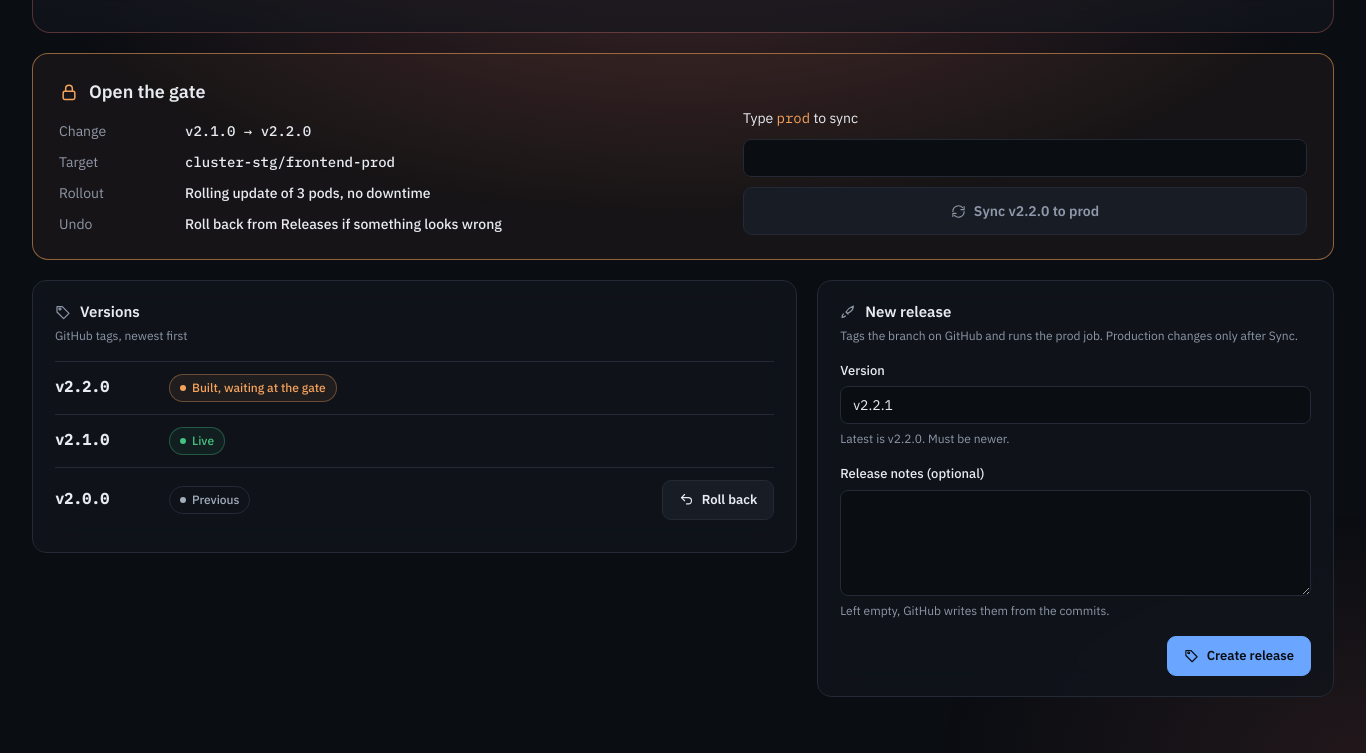
Test: Releases › rollback on prod needs the env name typed, then sends confirm
Later steps or results of the test are not shown.
(page scrolled)
Click the button "Roll back" at (718, 500), box [662, 480, 774, 520]
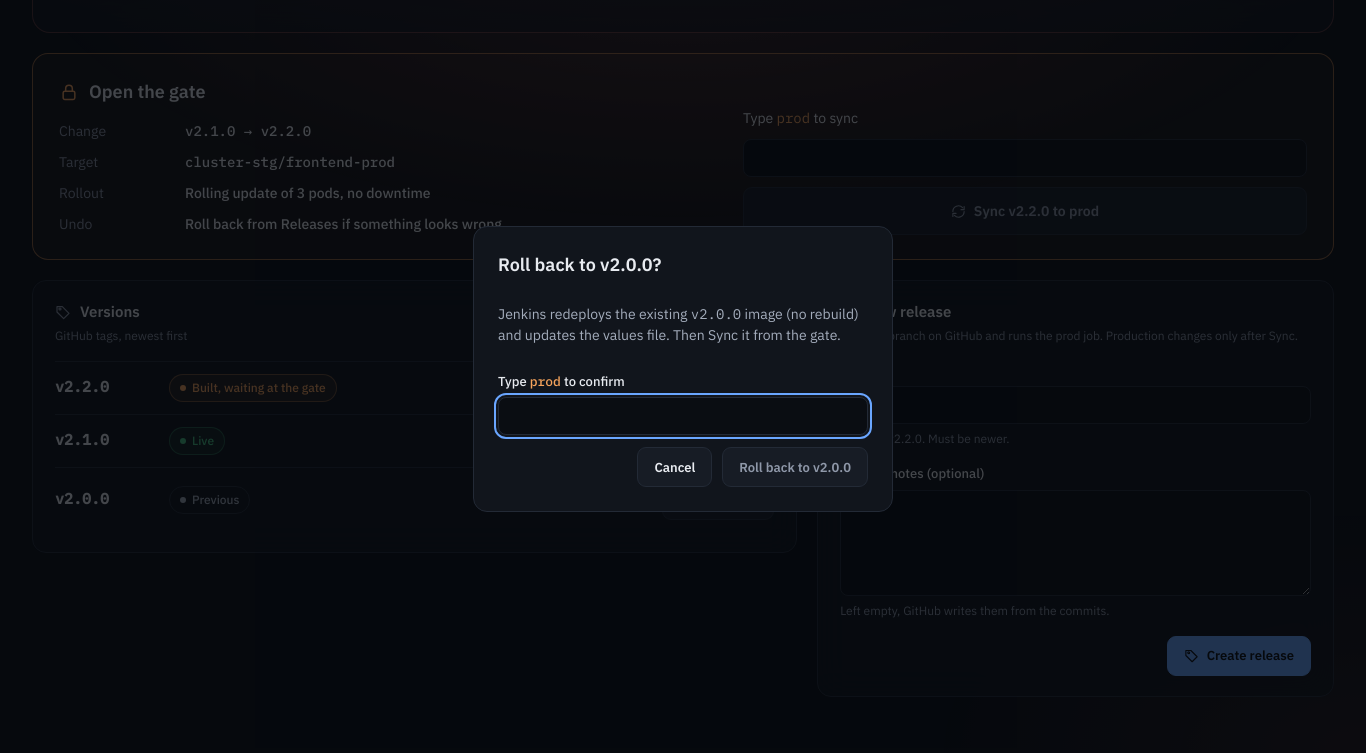
Result: the button "Roll back to v2.0.0" is disabled at [722, 447, 868, 487]
